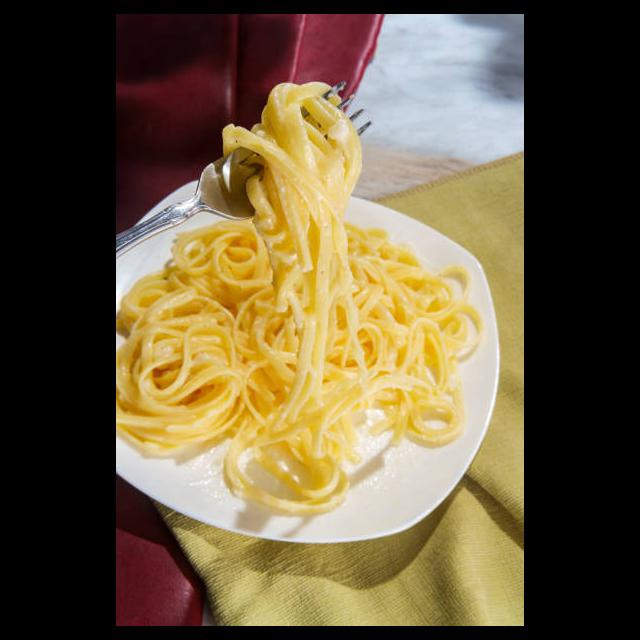noodles: (116, 81, 484, 514)
